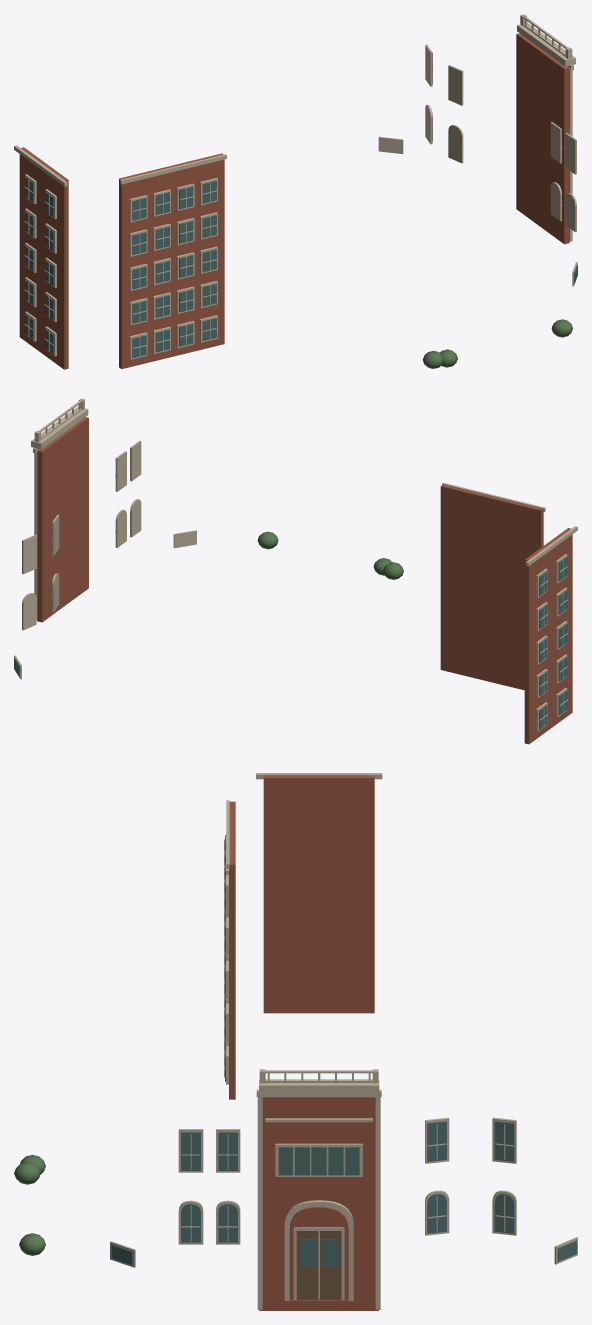
Rendered from fenton-basement-overlay-2026-11-04.glb.
The picture shows the model from 3 angles, top to bottom: view 1: azimuth 30°, elevation 25°; view 2: azimuth 150°, elevation 25°; view 3: azimuth 270°, elevation 25°; orthographic projection. The views are drawn at different scales.
Visible parts, largest first — view 1: fenton-part-0, fenton-part-1; view 2: fenton-part-0, fenton-part-1; view 3: fenton-part-0, fenton-part-1.
Part boxes in pixels (x1=…): fenton-part-0: x1=14, y1=14, x2=577, y2=369; fenton-part-1: x1=422, y1=319, x2=572, y2=368; fenton-part-0: x1=14, y1=398, x2=577, y2=744; fenton-part-1: x1=257, y1=531, x2=403, y2=579; fenton-part-0: x1=110, y1=773, x2=577, y2=1310; fenton-part-1: x1=14, y1=1155, x2=45, y2=1255.
Bounding box in the file's own units: 44.01 × 16.16 × 33.45.
